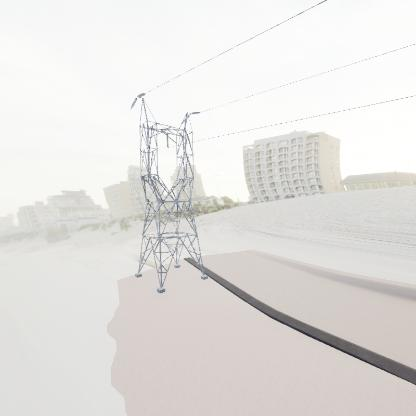tower: (126, 88, 215, 298)
